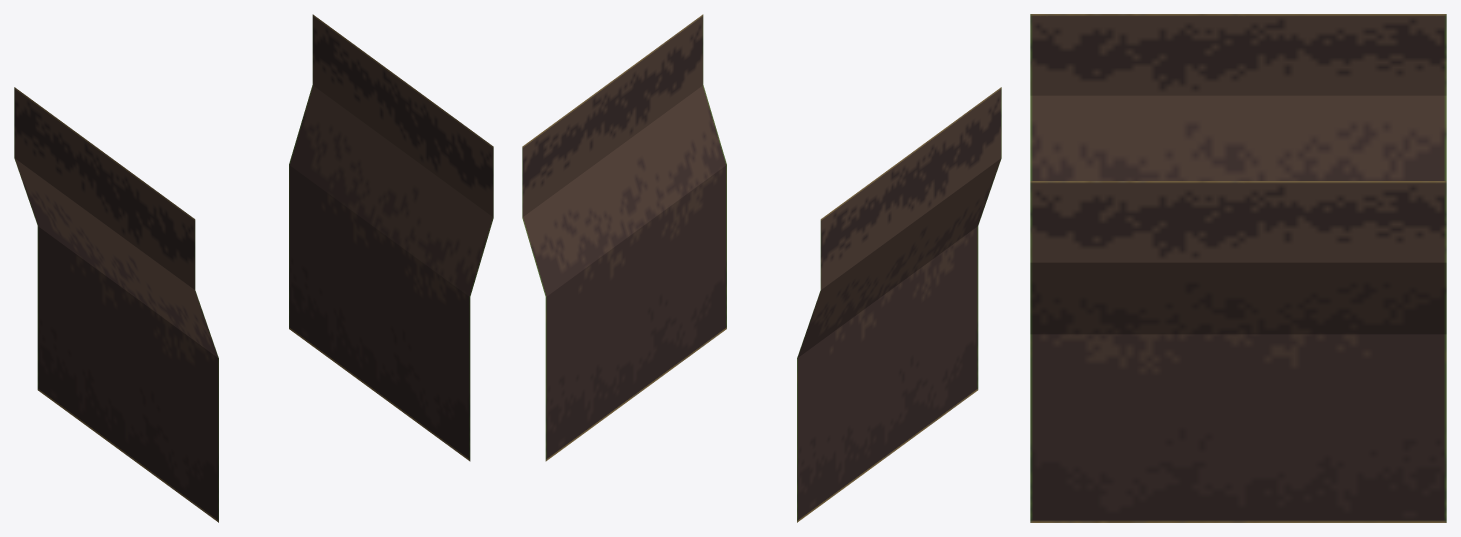
Rendered from Base_Wavy.obj.
The picture shows the model from 3 angles, left to right: view 1: azimuth 30°, elevation 25°; view 2: azimuth 150°, elevation 25°; view 3: azimuth 270°, elevation 25°; orthographic projection. The views are drawn at different scales.
Parts seen in each view (by area): view 1: Base_Wavy_Cube.008; view 2: Base_Wavy_Cube.008; view 3: Base_Wavy_Cube.008.
Boxes of the visible parts, box(x1,y1,x2,y2) form: Base_Wavy_Cube.008: box(14, 14, 493, 522); Base_Wavy_Cube.008: box(522, 14, 1001, 522); Base_Wavy_Cube.008: box(1030, 14, 1446, 522).
Size of the model in its own units: 1.9 by 1.88 by 2.
